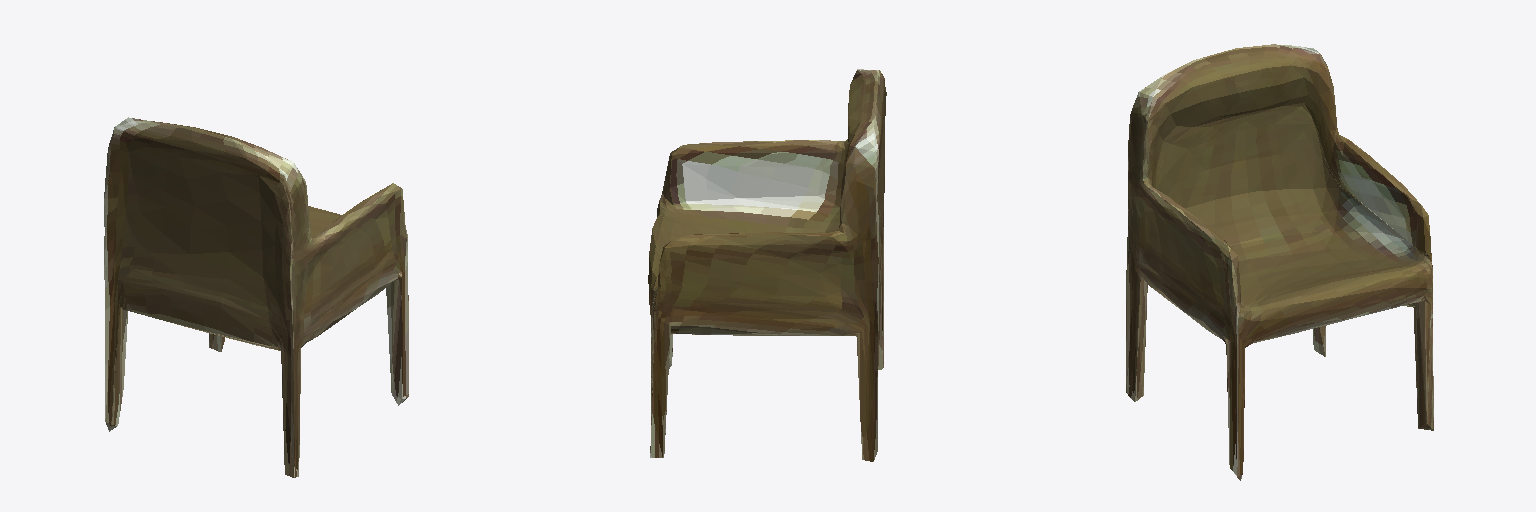
3 renders of one model, left to right at view 1: azimuth 30°, elevation 25°; view 2: azimuth 150°, elevation 25°; view 3: azimuth 270°, elevation 25°, orthographic.
Bounding box in the file's own units: 0.8315 × 1 × 0.8416.
1 materials, 1 textured.